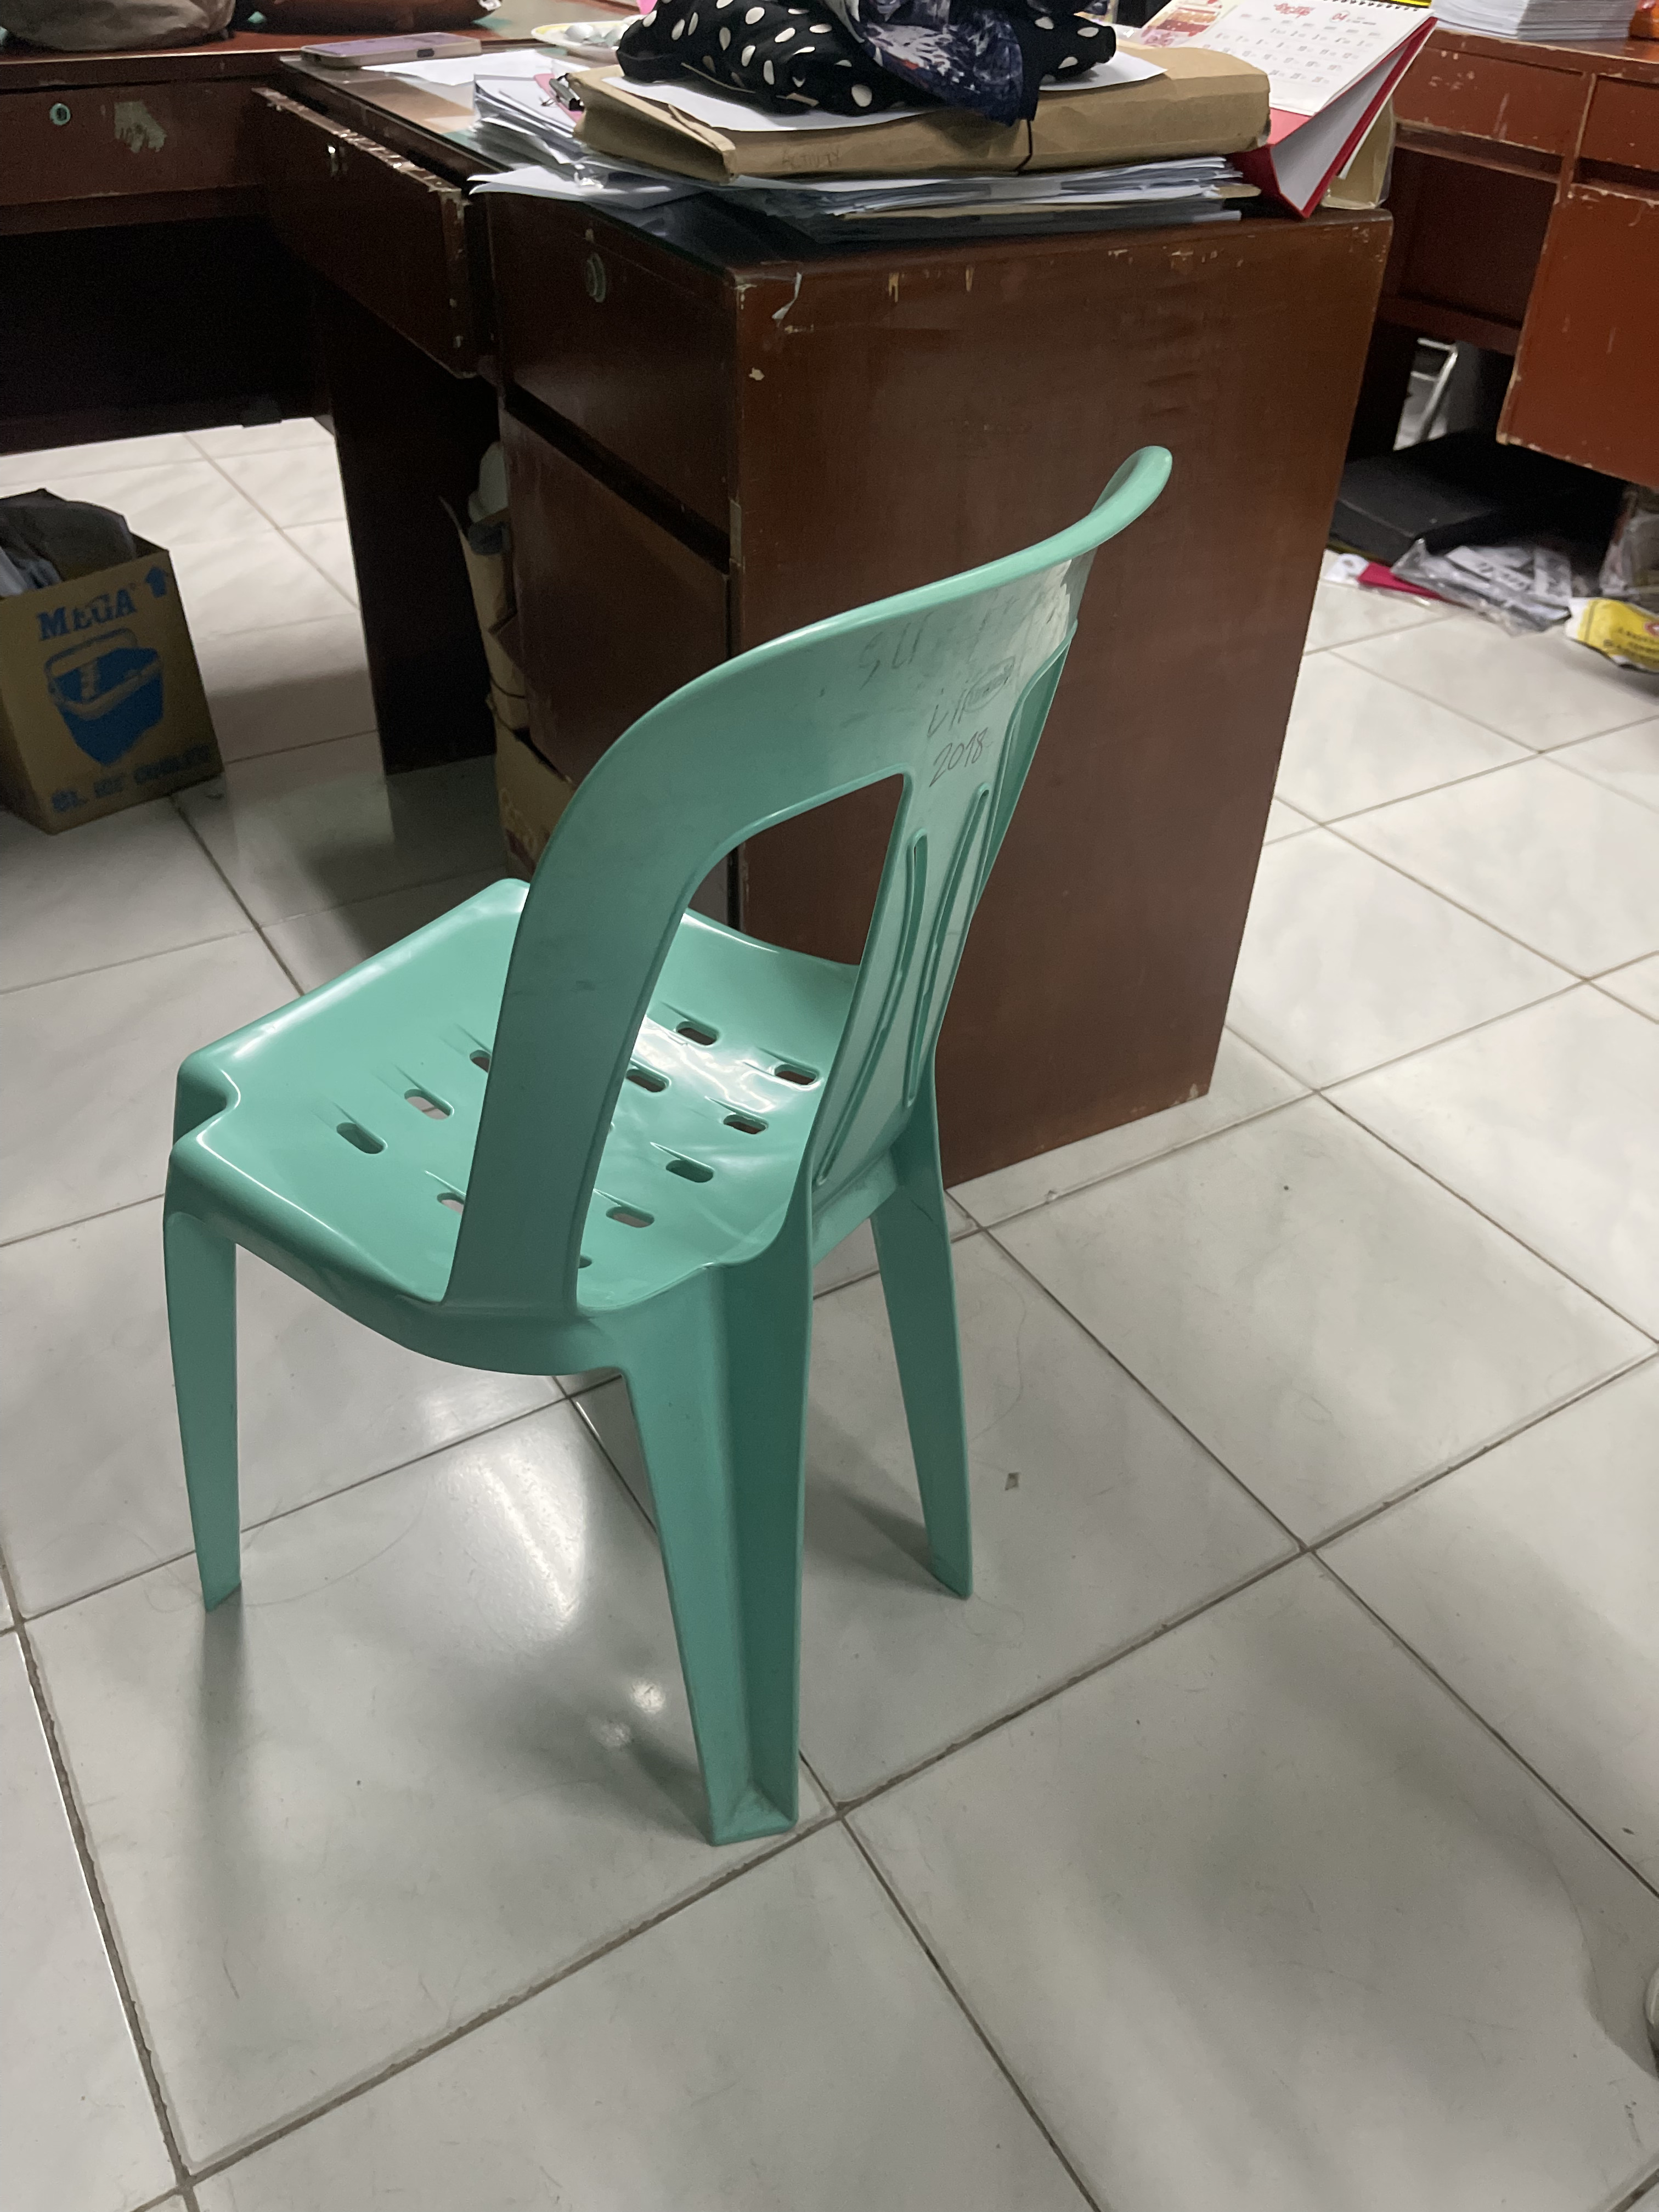chair2: (164, 441, 1178, 1834)
